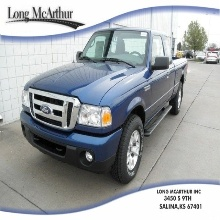no damage: (21, 26, 187, 183), (196, 49, 220, 67)
